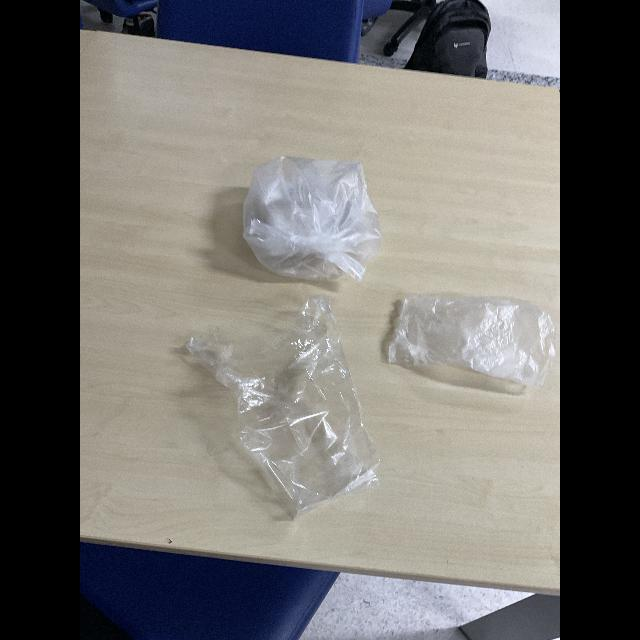plastic_bag: (182, 300, 380, 516), (238, 145, 388, 295), (378, 292, 556, 391)
